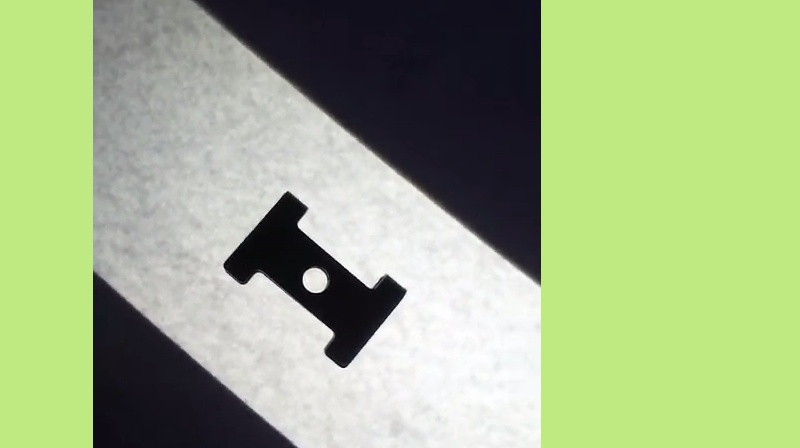O002: (219, 187, 410, 373)
